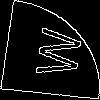W: (25, 25, 84, 79)
